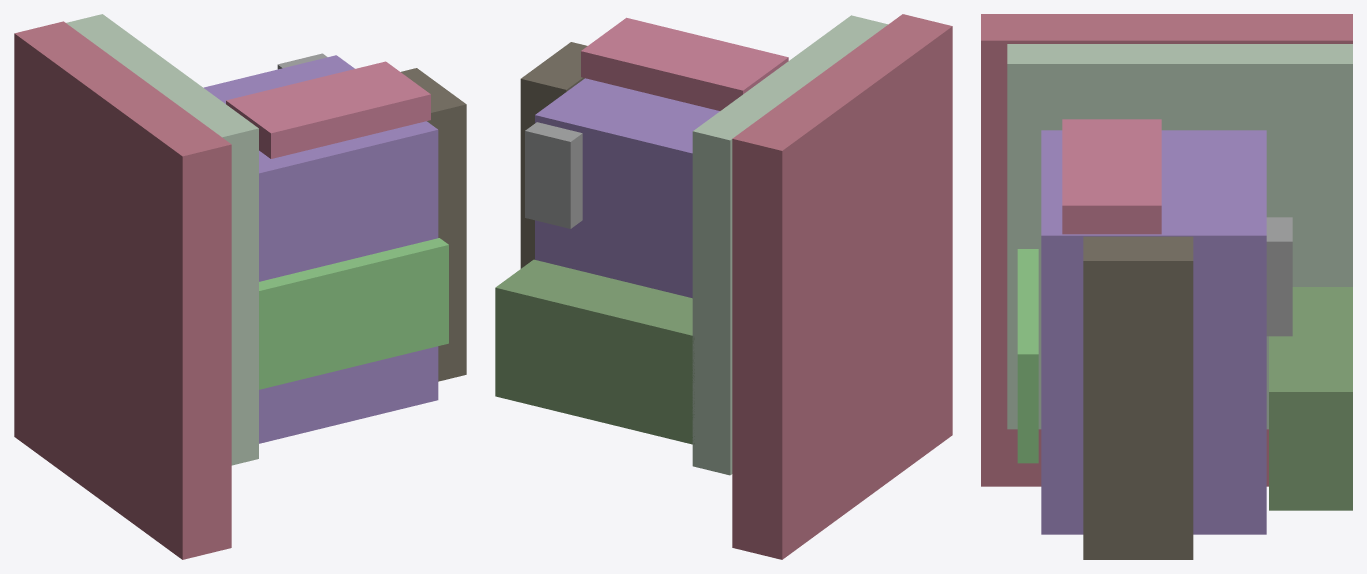
3 views of the same model, side by side, from view 1: azimuth 30°, elevation 25°; view 2: azimuth 150°, elevation 25°; view 3: azimuth 270°, elevation 25° (orthographic). The views are drawn at different scales.
Parts seen in each view (by area): view 1: world; view 2: world; view 3: world.
Part boxes in pixels (x1,y1,x2,y2): world: (14,14,466,559); world: (495,14,952,559); world: (981,14,1352,559).
Size of the model in its own units: 8.05 by 9.4 by 7.1.
